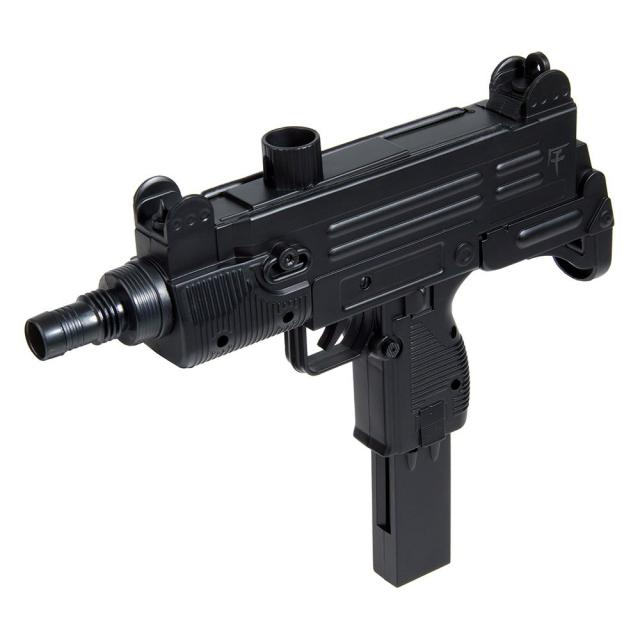SMG: (22, 53, 616, 591)
